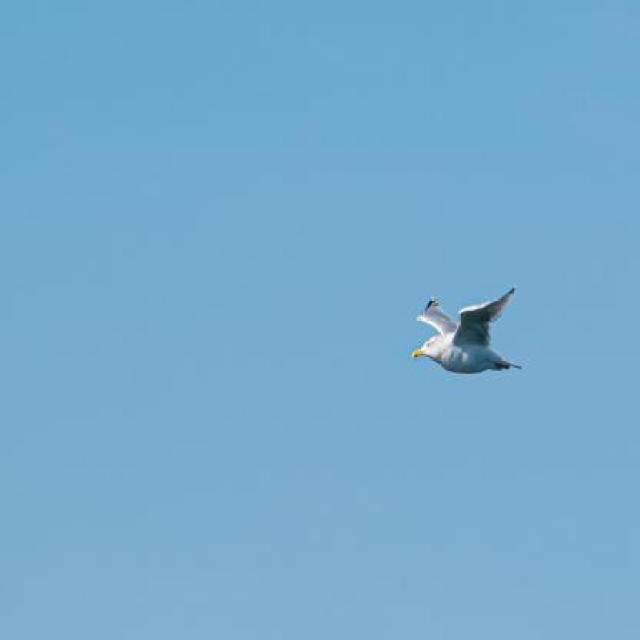bird: (396, 268, 538, 408)
